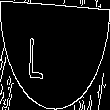L_N: (46, 29, 64, 81)
